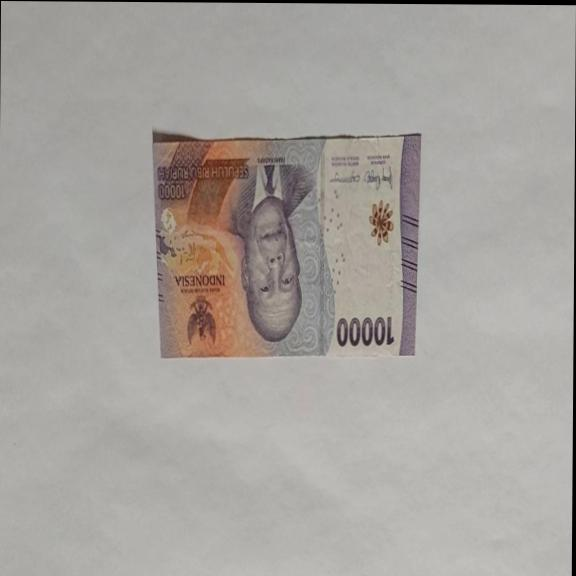Kertas: (149, 130, 421, 362), (335, 314, 395, 349)
